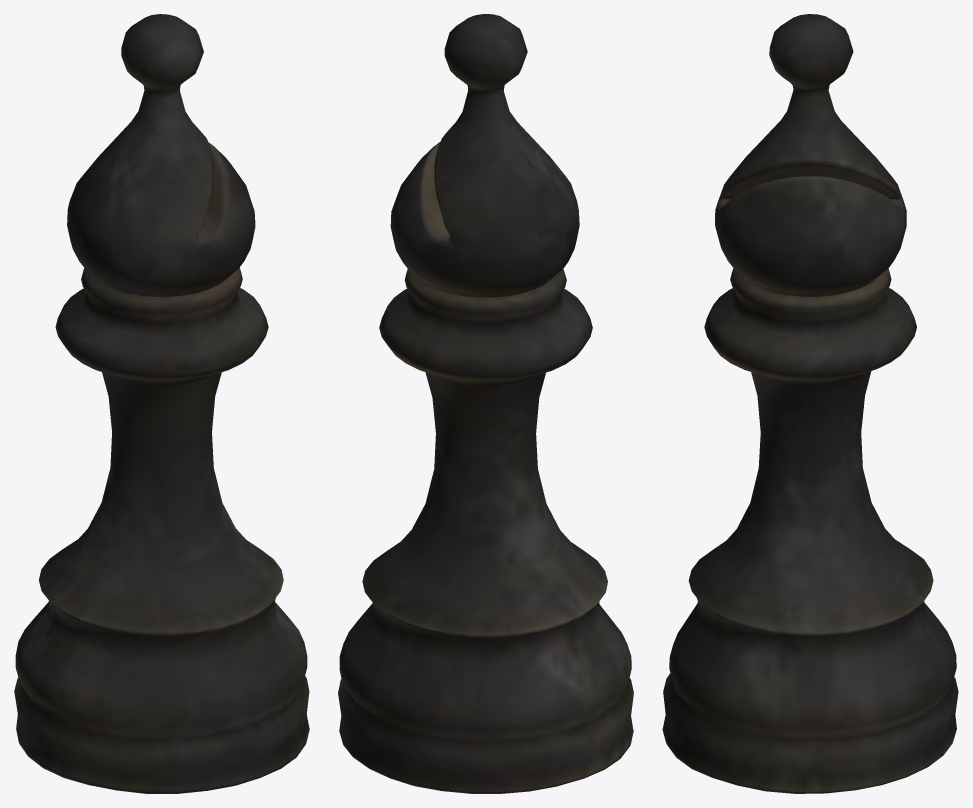
File: bishop_black.glb
The picture shows the model from 3 angles, left to right: view 1: azimuth 30°, elevation 25°; view 2: azimuth 150°, elevation 25°; view 3: azimuth 270°, elevation 25°; orthographic projection.
Visible parts, largest first — view 1: piece_bishop_black_01; view 2: piece_bishop_black_01; view 3: piece_bishop_black_01.
Boxes of the visible parts, bbox=[...] form: piece_bishop_black_01: bbox=[14, 14, 309, 793]; piece_bishop_black_01: bbox=[338, 14, 633, 793]; piece_bishop_black_01: bbox=[662, 14, 958, 793].
Bounding box in the file's own units: 0.0322 × 0.0858 × 0.0322.
1 material, 1 textured.
